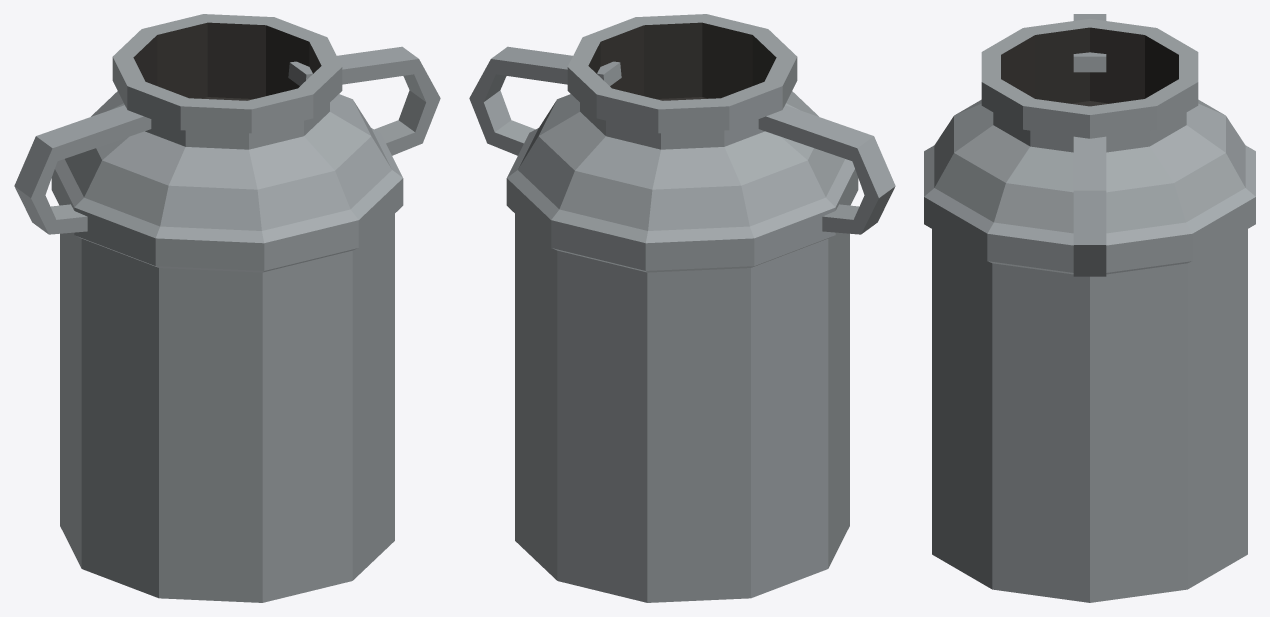
Rendered from FMS_Crate_Milk_Can_Open.fbx.
3 renders of one model, left to right at view 1: azimuth 30°, elevation 25°; view 2: azimuth 150°, elevation 25°; view 3: azimuth 270°, elevation 25°, orthographic.
Visible parts, largest first — view 1: item_tools_milk_can_open; view 2: item_tools_milk_can_open; view 3: item_tools_milk_can_open.
Part boxes in pixels (x1,y1,x2,y2): item_tools_milk_can_open: [14, 14, 440, 602]; item_tools_milk_can_open: [469, 14, 895, 602]; item_tools_milk_can_open: [924, 14, 1255, 602].
Size of the model in its own units: 0.34 by 0.374 by 0.2416.
